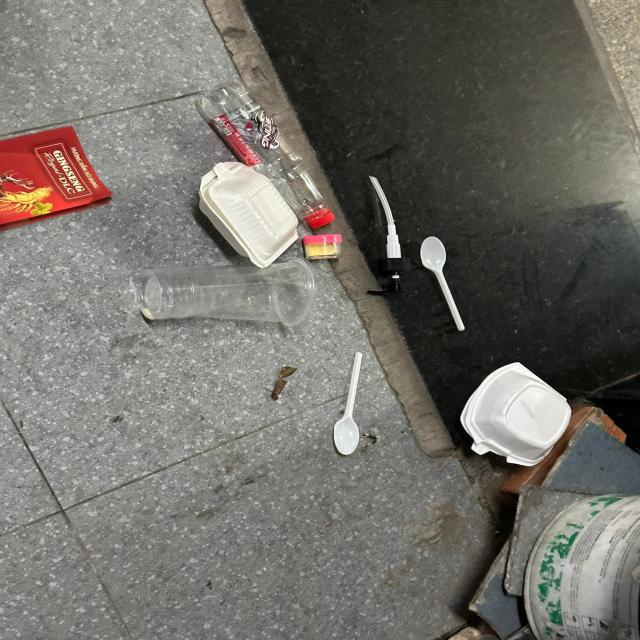bottle: (198, 84, 335, 230)
foam box: (460, 362, 573, 466), (196, 161, 300, 268)
paper: (0, 127, 114, 231)
plastic glass: (142, 262, 315, 326)
plastic holder: (302, 234, 342, 261)
plastic utensil: (420, 238, 466, 332), (335, 352, 363, 455)
